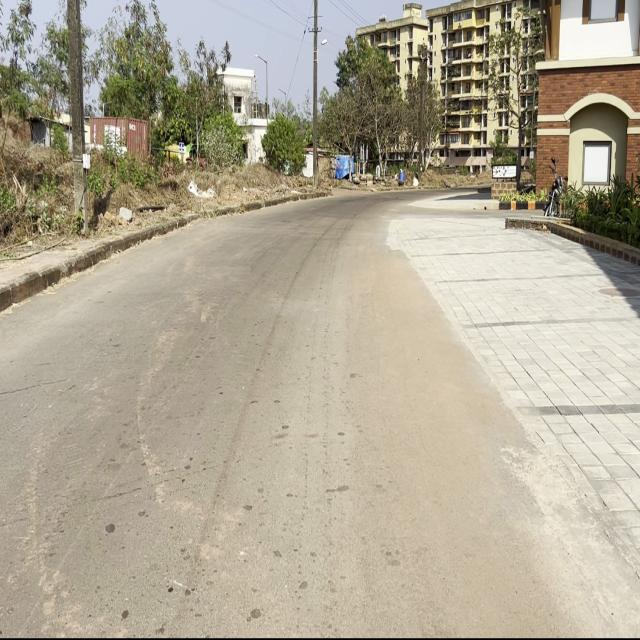Road: (0, 192, 639, 640)
